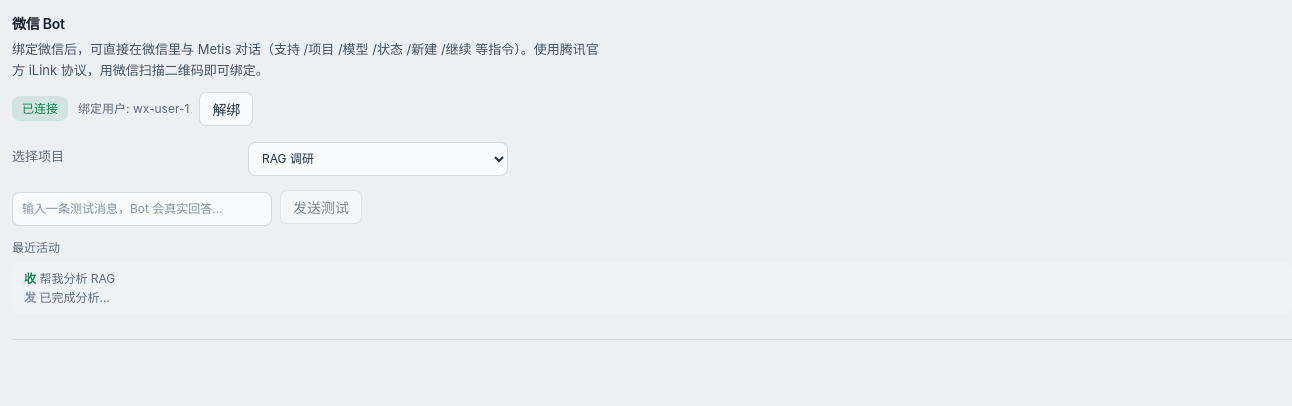
Test: SettingsWeChatBotSection › unbinds and returns to the login state
Expected: the element with test id "wechat-bound-area" is shown, [12, 92, 1291, 315]
Step 1. Click the button with test id "wechat-logout" → [226, 109], box [199, 92, 253, 126]
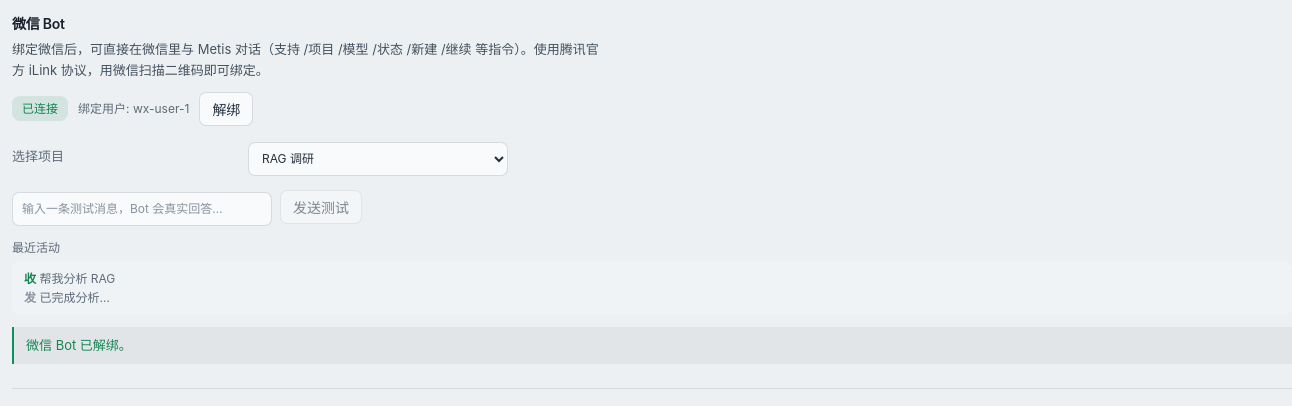
Now the text "微信 Bot 已解绑。" is shown, box [12, 327, 1291, 364]
